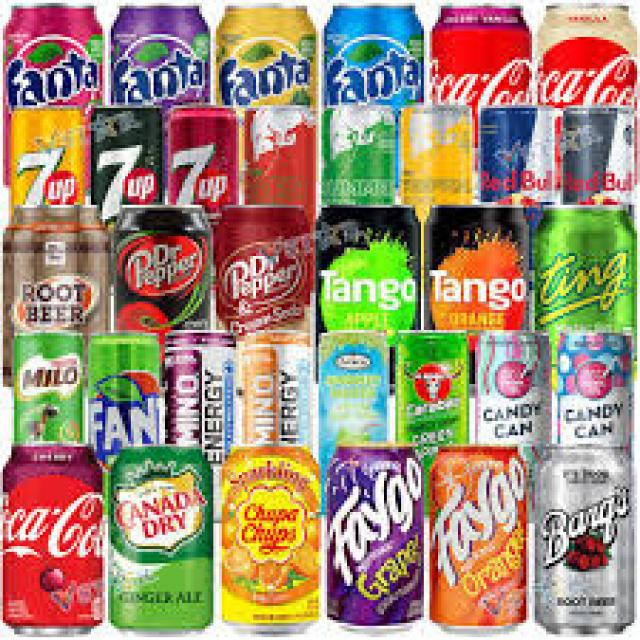Cans: (100, 435, 219, 632), (424, 438, 535, 632), (535, 438, 640, 634), (3, 444, 108, 637), (330, 435, 427, 626), (222, 447, 327, 623)
